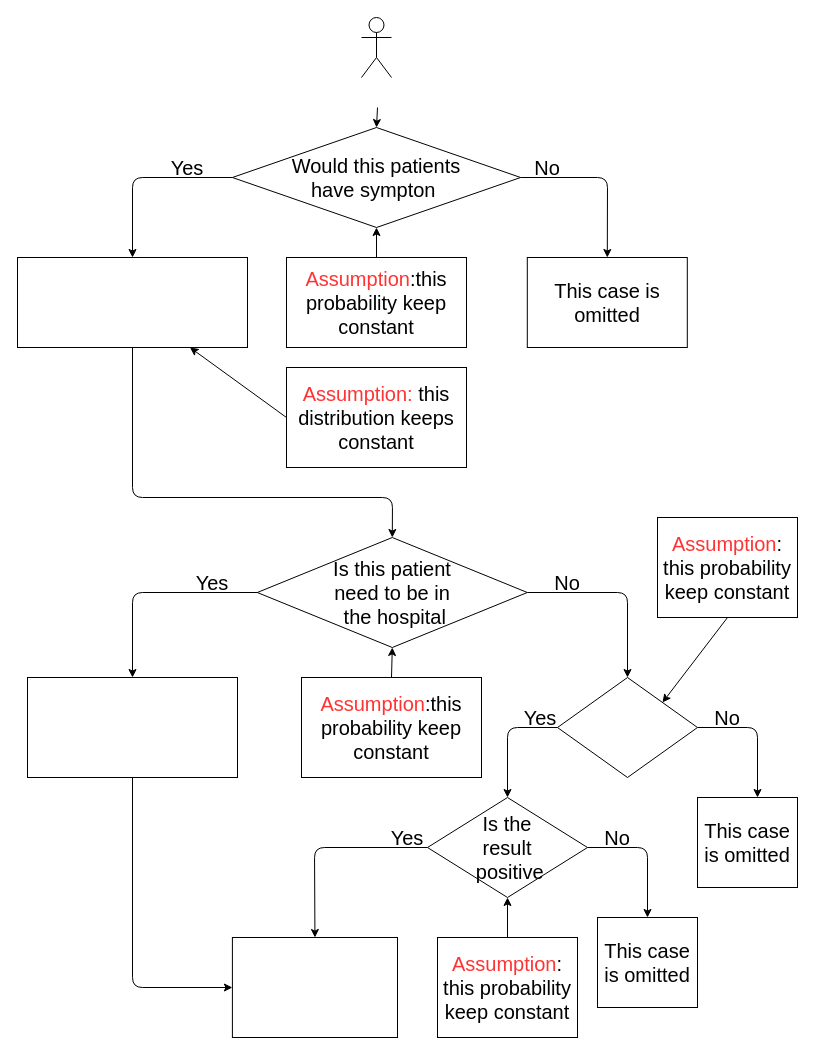
This 815x1055 diagram has some shape labels left out. The shapes that lost their labels are listed below. From the top down, each one's centre as x and y in pixels, then its label:
At pixel 376 47: "Patients".
At pixel 132 302: "After n days, this Patient has symptom n ~ Geo(1/n)".
At pixel 132 727: "The number of patients new to the hospital is recorded".
At pixel 627 727: "Is this patient tested".
At pixel 314 987: "The number of covid-19 patients is recorded".
